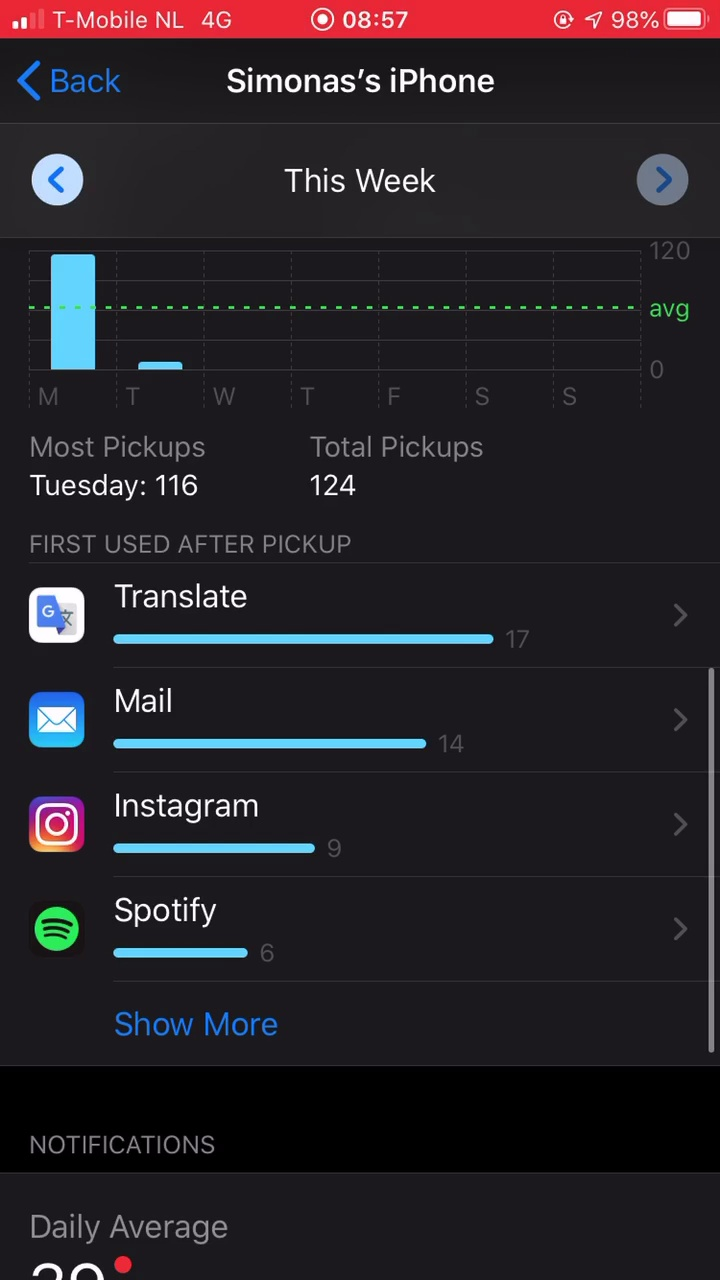pick_app: (15, 567, 571, 667), (18, 675, 487, 767), (20, 777, 373, 875), (23, 883, 301, 982)
pick_over: (15, 421, 562, 527)
week: (275, 160, 448, 199)
